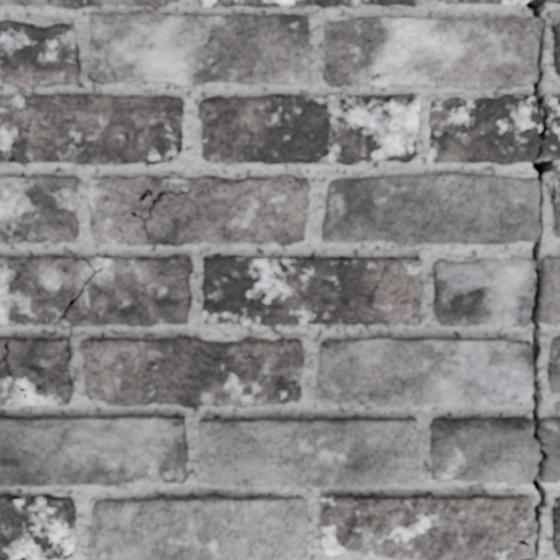brick: (88, 10, 308, 83), (80, 336, 305, 407), (323, 16, 541, 88), (201, 255, 422, 325), (323, 173, 539, 244), (199, 417, 418, 487), (199, 94, 416, 164), (88, 175, 308, 244), (316, 337, 531, 406), (88, 494, 306, 559), (321, 493, 535, 559), (0, 255, 191, 325), (0, 414, 187, 485), (0, 94, 182, 164), (0, 175, 78, 243), (0, 20, 79, 87), (0, 494, 75, 559), (0, 338, 72, 405), (198, 0, 415, 7), (0, 0, 176, 7), (548, 336, 559, 394), (551, 16, 559, 75), (551, 497, 559, 555), (552, 174, 559, 236), (0, 336, 7, 358), (89, 258, 100, 268), (411, 94, 418, 108)
broken_brick: (426, 93, 540, 165), (429, 415, 539, 485), (431, 257, 534, 326), (541, 257, 559, 324), (541, 416, 559, 482), (541, 93, 559, 159), (435, 0, 525, 5), (544, 0, 559, 3)
crack: (507, 0, 559, 559), (59, 257, 115, 320), (0, 337, 27, 398), (356, 95, 391, 133), (5, 119, 30, 161), (370, 259, 386, 300), (407, 94, 418, 114), (364, 72, 381, 83), (87, 74, 95, 82)
